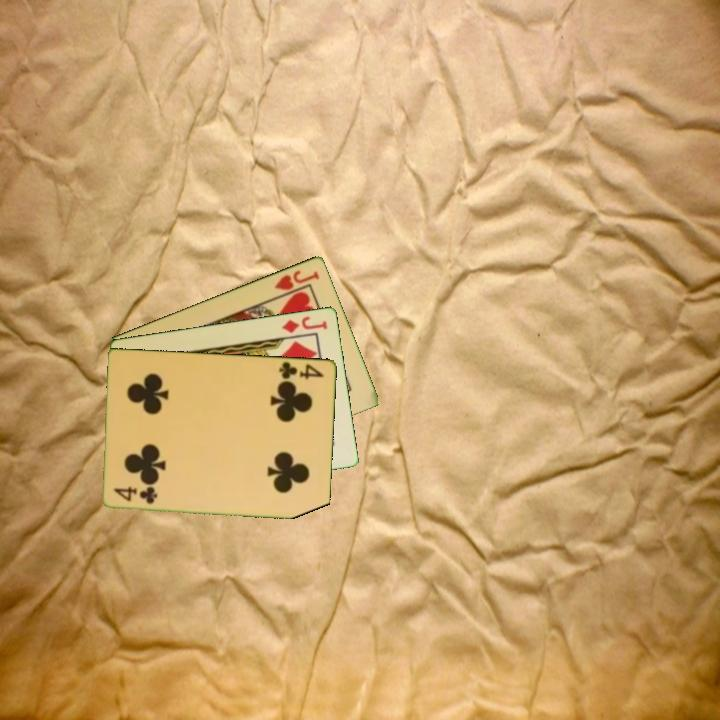4c: (276, 358, 327, 382), (110, 484, 160, 507)
Jd: (279, 312, 330, 335)
Jh: (270, 266, 322, 300)
